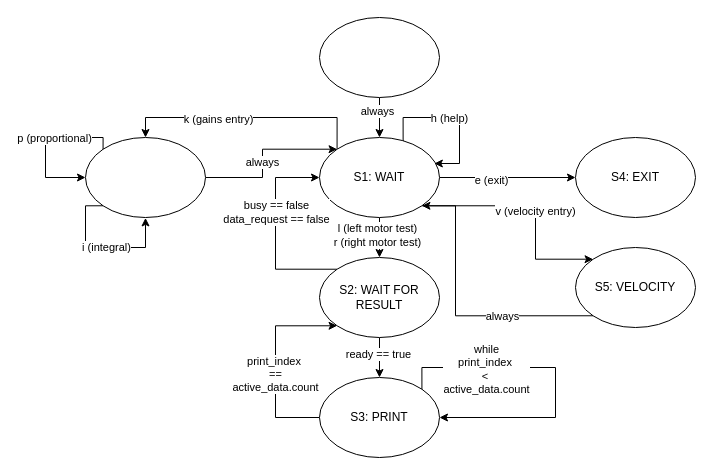
The diagram is 714 pixels wide and 475 high, and some of its shapes have lost their labels. Here are the shapes that lost their labels. From the top down, the centre of each, then its label:
At point 379,57: "S0: INIT".
At point 145,177: "S6: GAIN".
